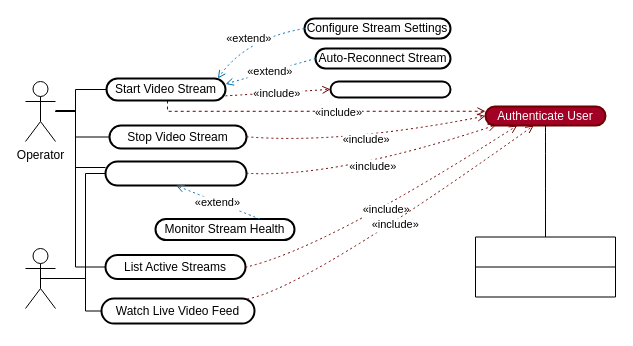
This 633x346 diagram has some shape labels left out. Here are the shapes that lost their labels. From the top down, the box of each, then its label:
(329, 80, 451, 98): Resolve Stream URL
(104, 160, 247, 186): View Stream Status
(24, 248, 56, 308): Viewer
(474, 236, 616, 297): Auth Service
